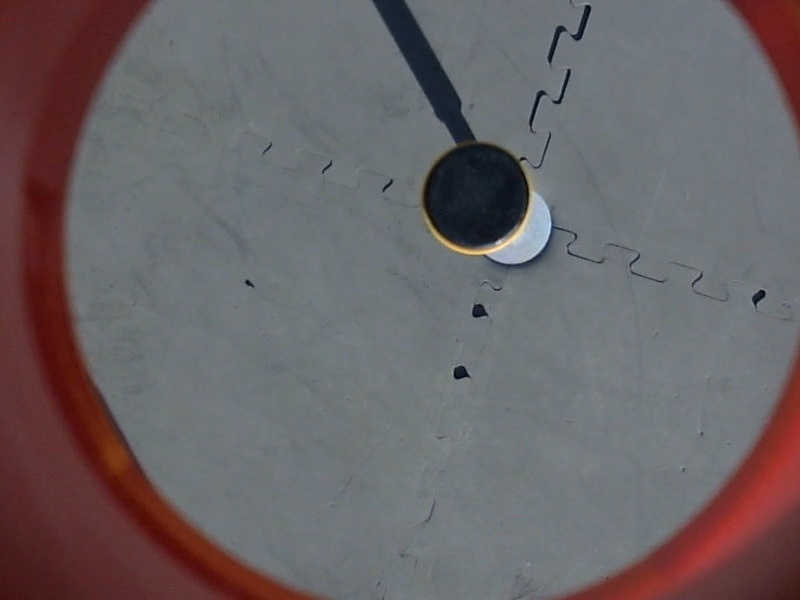tip: (419, 137, 535, 257)
